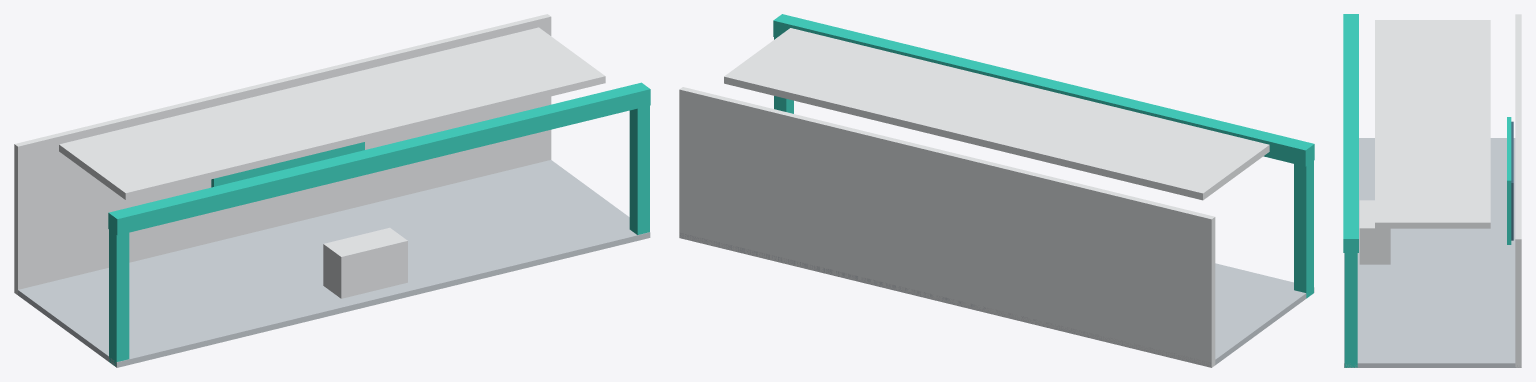
The picture shows the model from 3 angles, left to right: view 1: azimuth 30°, elevation 25°; view 2: azimuth 150°, elevation 25°; view 3: azimuth 270°, elevation 25°; orthographic projection. The views are drawn at different scales.
Parts seen in each view (by area): view 1: Exhibition Booth Concept; view 2: Exhibition Booth Concept; view 3: Exhibition Booth Concept.
Boxes of the visible parts, box(x1,y1,x2,y2) form: Exhibition Booth Concept: box(14, 14, 650, 367); Exhibition Booth Concept: box(679, 14, 1314, 367); Exhibition Booth Concept: box(1343, 14, 1521, 367).
Bounding box in the file's own units: 12 × 3.34 × 4.02.
